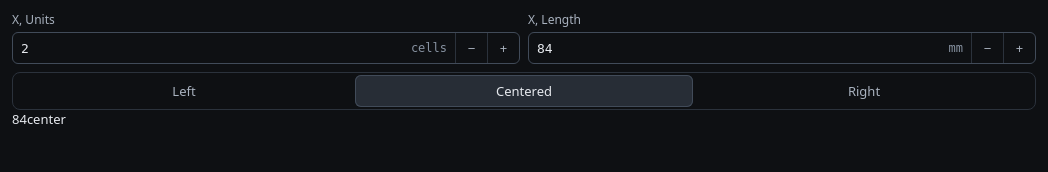
SizeInput › выбор выравнивания
This screenshot has width=1048, height=172.
Click the button "Right": click(864, 91) 695,75 -> 1033,107
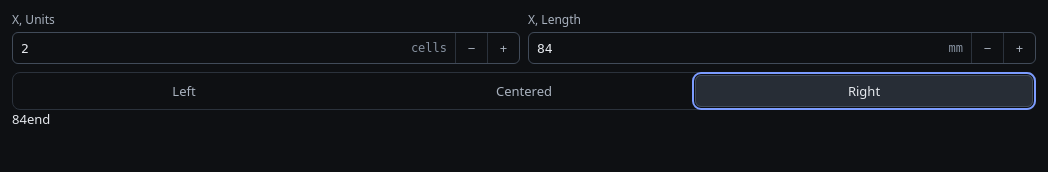
Expected: the text with test id "al" reads "end", 27,110 -> 50,128
